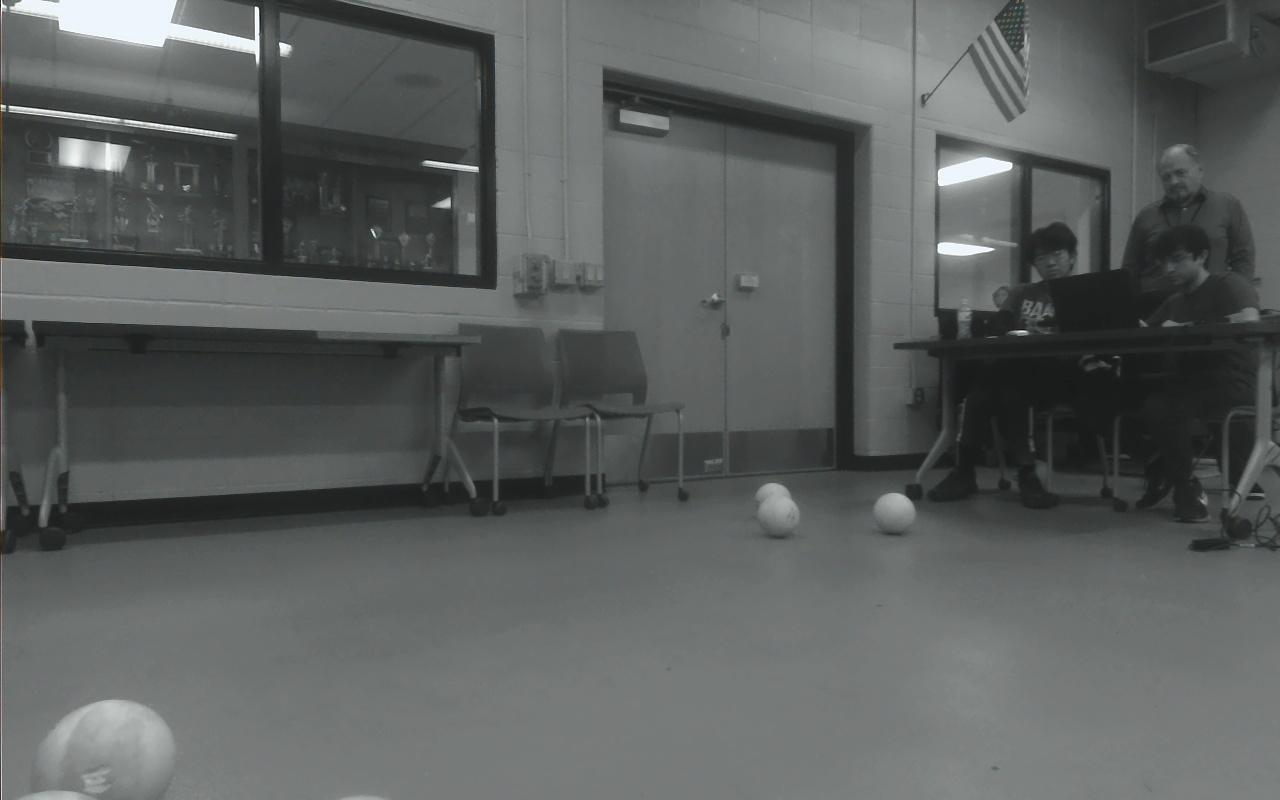Fuel: (32, 698, 177, 800), (756, 494, 800, 538), (872, 492, 916, 534), (753, 482, 792, 517), (15, 789, 97, 800)
